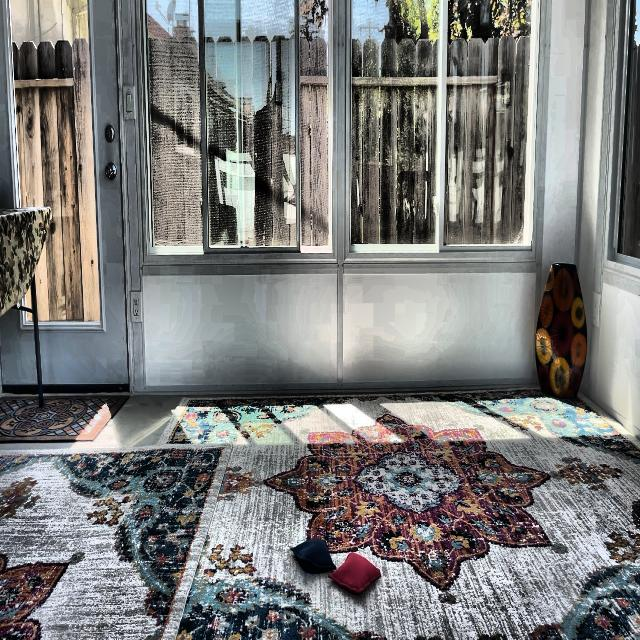blue-bean-bag: (290, 538, 336, 572)
red-bean-bag: (329, 551, 381, 595)
